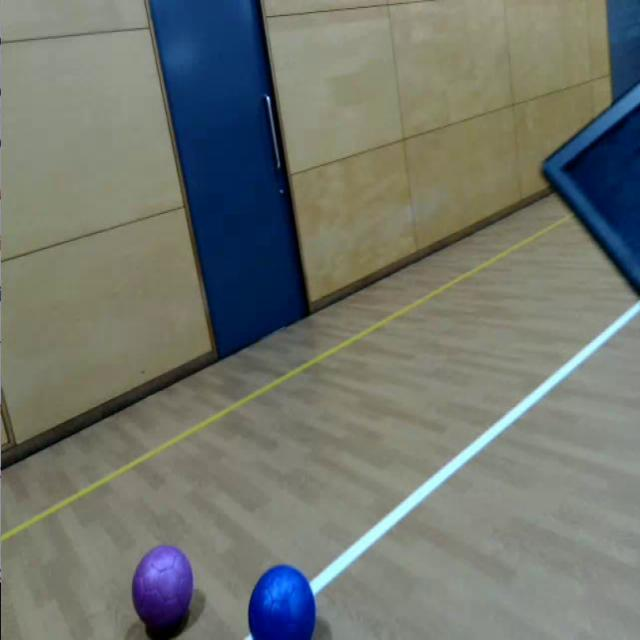blue_ball: (248, 560, 317, 640)
purple_ball: (133, 543, 194, 631)
